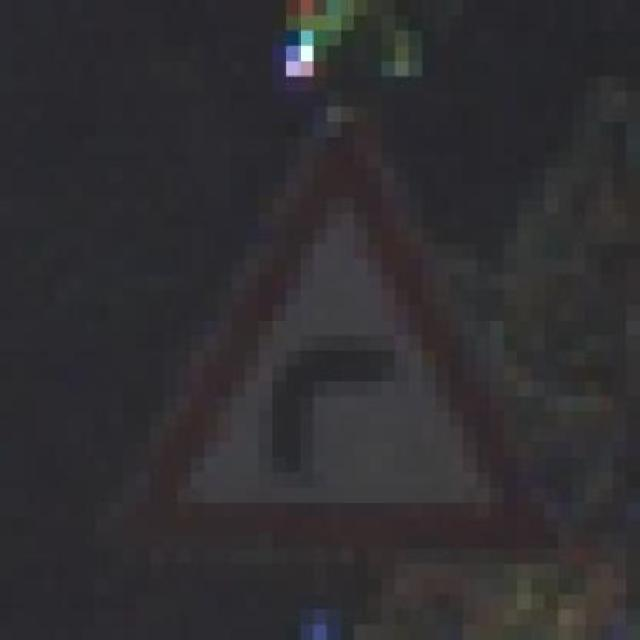Dangerous Rright Curve Ahead: (109, 91, 532, 548)
